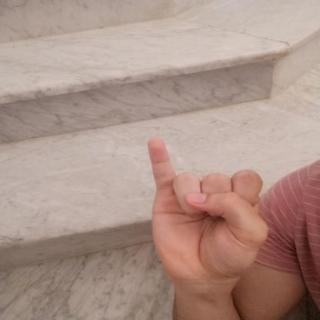MEEM: (133, 127, 280, 295)
